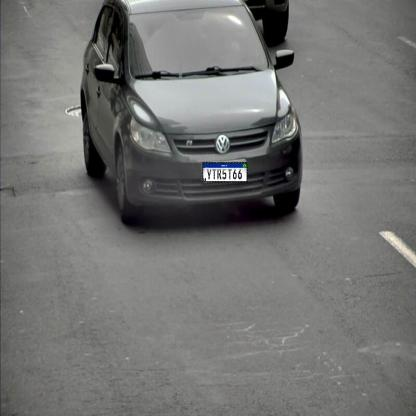PlacaM: (202, 162, 247, 183)
